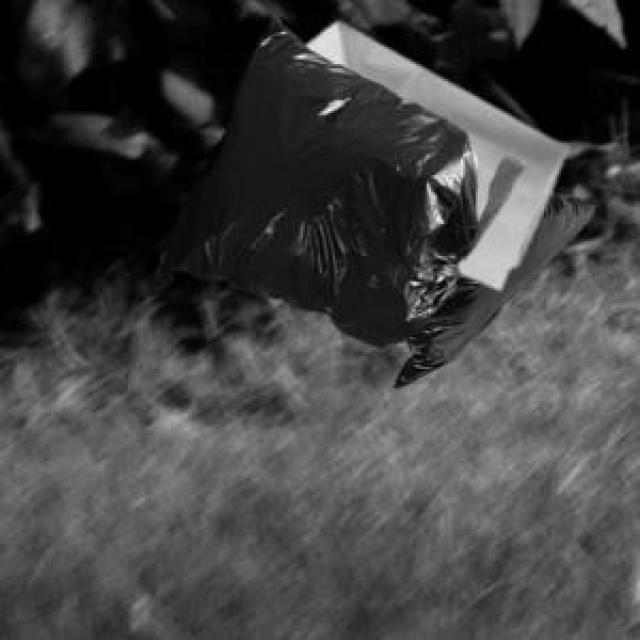miscellaneous trash: (145, 6, 521, 344), (390, 188, 591, 384)
paper: (303, 19, 563, 284)
